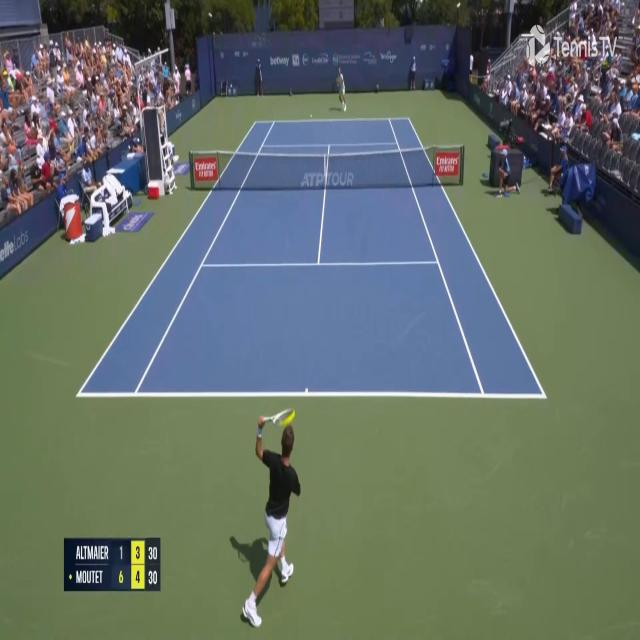tennis-player: (226, 418, 302, 636), (333, 67, 347, 111)
